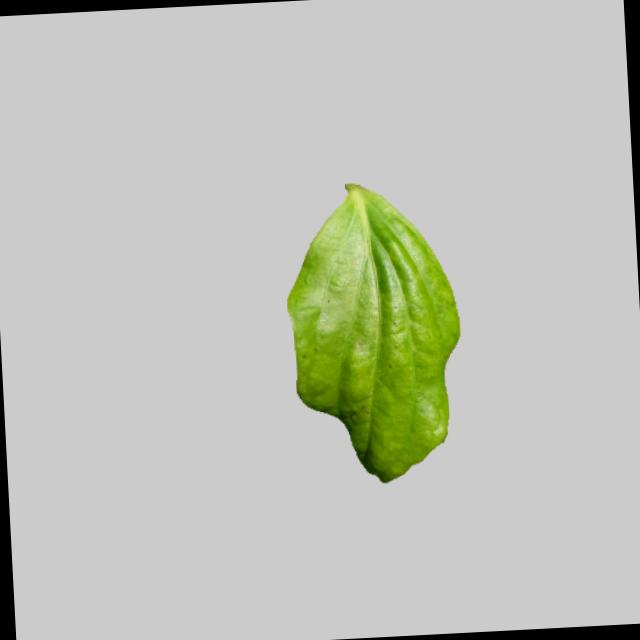yellow-mottle-virus: (283, 177, 472, 484)
